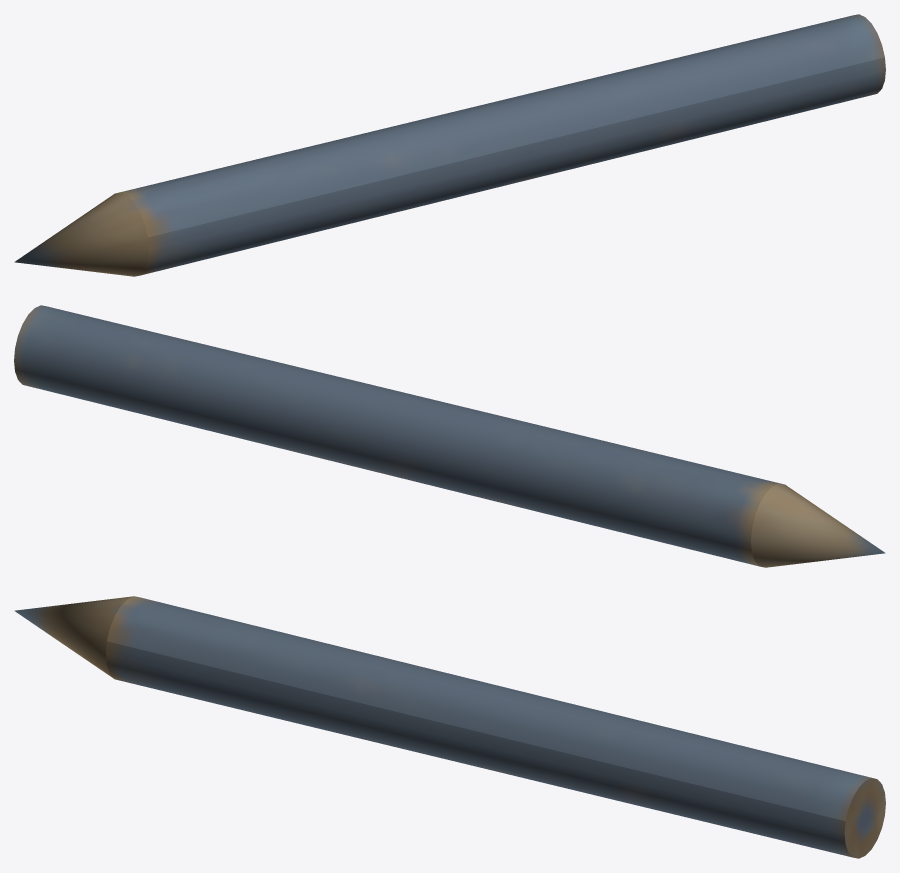
The model's file is SM_Farm_Pencil_03.fbx.
The picture shows the model from 3 angles, top to bottom: view 1: azimuth 30°, elevation 25°; view 2: azimuth 150°, elevation 25°; view 3: azimuth 330°, elevation 25°; orthographic projection.
Visible parts, largest first — view 1: SM_Farm_Pencil_03_LOD0; view 2: SM_Farm_Pencil_03_LOD0; view 3: SM_Farm_Pencil_03_LOD0.
Part boxes in pixels (box(x1,y1,x2,y2)): SM_Farm_Pencil_03_LOD0: box(14, 14, 885, 276); SM_Farm_Pencil_03_LOD0: box(14, 305, 885, 567); SM_Farm_Pencil_03_LOD0: box(14, 596, 885, 858).
Size of the model in its own units: 25.32 by 2.23 by 2.23.
